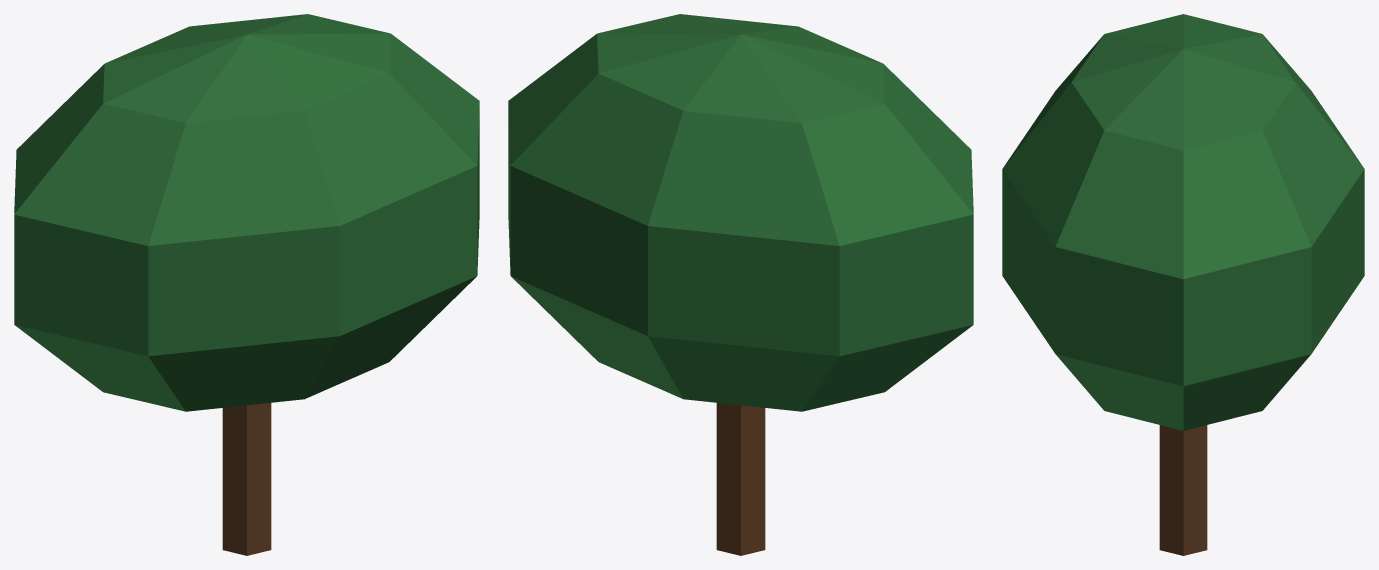
File: tree.glb
3 renders of one model, left to right at view 1: azimuth 30°, elevation 25°; view 2: azimuth 150°, elevation 25°; view 3: azimuth 270°, elevation 25°, orthographic. The views are drawn at different scales.
Visible parts, largest first — view 1: tree; view 2: tree; view 3: tree.
Part boxes in pixels (box(x1,y1,x2,y2)): tree: box(14, 14, 479, 555); tree: box(508, 14, 973, 555); tree: box(1002, 14, 1364, 555).
Size of the model in its own units: 5.81 by 6.08 by 4.03.
